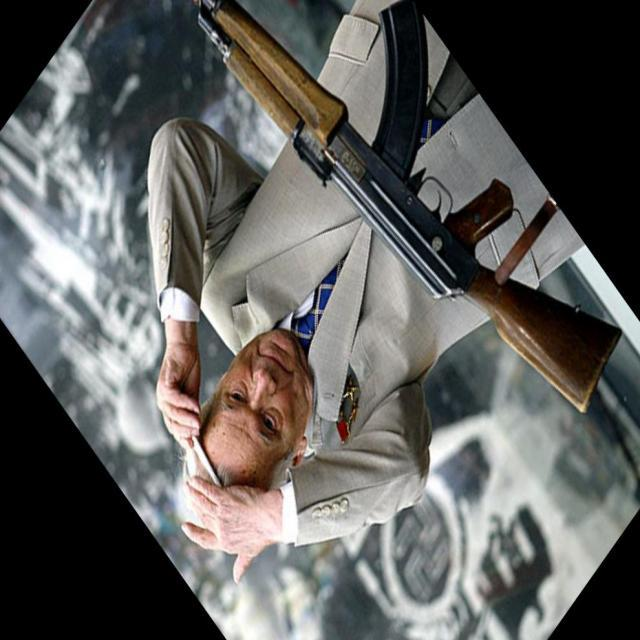weapon: (190, 0, 624, 416)
